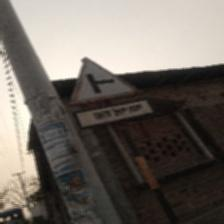Side-road-left: (67, 58, 152, 129)
